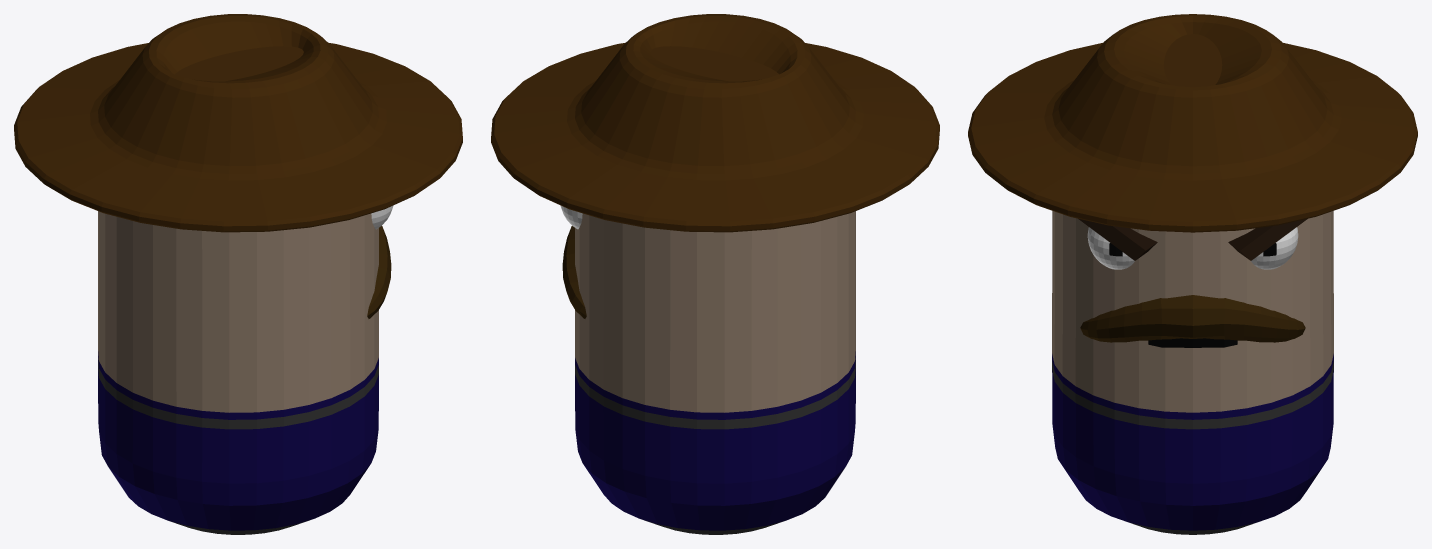
File: EnemyAI.fbx
The picture shows the model from 3 angles, left to right: view 1: azimuth 30°, elevation 25°; view 2: azimuth 150°, elevation 25°; view 3: azimuth 270°, elevation 25°; orthographic projection.
Visible parts, largest first — view 1: EnemyAI; view 2: EnemyAI; view 3: EnemyAI.
Boxes of the visible parts, box(x1,y1,x2,y2) form: EnemyAI: box(14, 14, 462, 534); EnemyAI: box(491, 14, 939, 534); EnemyAI: box(968, 14, 1417, 534).
Size of the model in its own units: 320 by 364 by 320.
